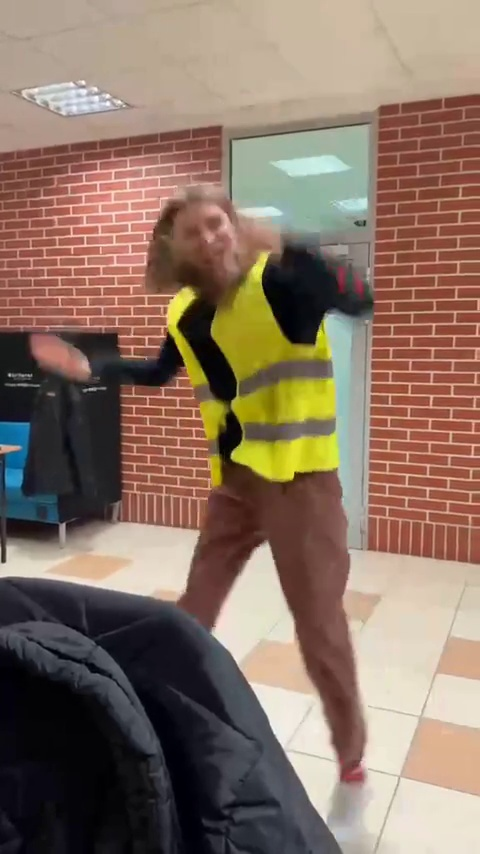vest: (117, 190, 369, 819)
